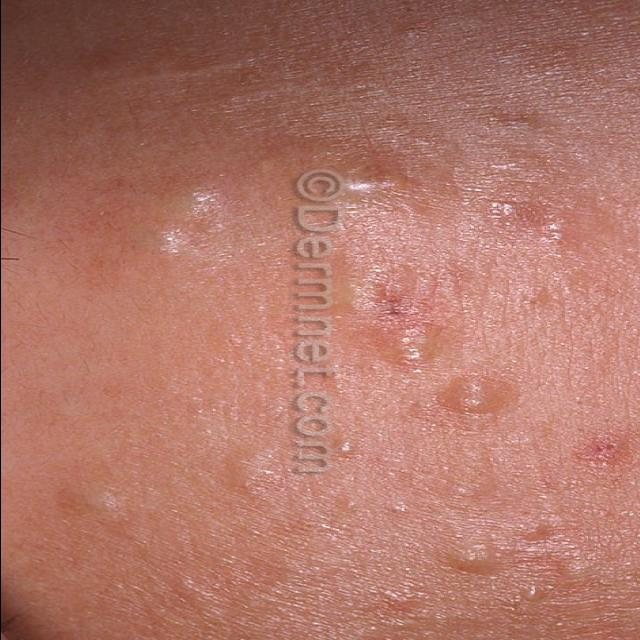Acne: (337, 159, 405, 200), (161, 180, 225, 222), (445, 538, 508, 578), (478, 192, 542, 230), (385, 322, 437, 368), (445, 376, 505, 414), (372, 276, 419, 324), (134, 220, 192, 258), (229, 448, 281, 490), (570, 434, 633, 468), (77, 487, 132, 521), (530, 213, 580, 249)
